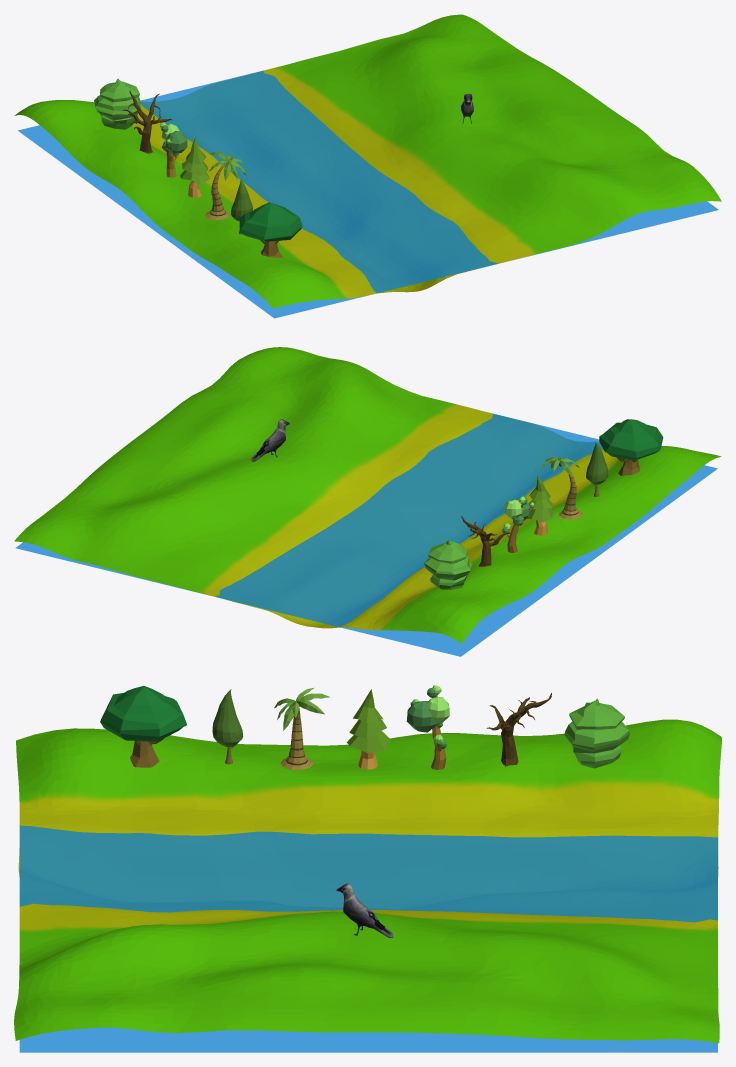
Rendered from World_test.glb.
3 renders of one model, top to bottom at view 1: azimuth 30°, elevation 25°; view 2: azimuth 150°, elevation 25°; view 3: azimuth 270°, elevation 25°, orthographic. The views are drawn at different scales.
Parts seen in each view (by area): view 1: Grid, Plane, Circle.005, Circle.007, Circle.001, Circle.002, Circle, Circle.006, Circle.004; view 2: Grid, Plane, Circle.005, Circle.007, Circle.001, Circle, Circle.002, Circle.006, Circle.004, Bird_2; view 3: Grid, Plane, Circle.005, Circle.007, Circle.001, Circle, Circle.002, Circle.006, Circle.004, Bird_2.
Part boxes in pixels (x1=…): Grid: x1=14, y1=14, x2=721, y2=308; Plane: x1=18, y1=70, x2=718, y2=318; Circle.005: x1=239, y1=202, x2=302, y2=257; Circle.007: x1=94, y1=78, x2=140, y2=129; Circle.001: x1=180, y1=136, x2=210, y2=197; Circle.002: x1=205, y1=152, x2=246, y2=220; Circle: x1=160, y1=122, x2=187, y2=177; Circle.006: x1=122, y1=90, x2=172, y2=153; Circle.004: x1=231, y1=179, x2=252, y2=221; Grid: x1=14, y1=347, x2=721, y2=643; Plane: x1=15, y1=413, x2=717, y2=656; Circle.005: x1=599, y1=419, x2=663, y2=475; Circle.007: x1=424, y1=539, x2=472, y2=589; Circle.001: x1=526, y1=475, x2=553, y2=535; Circle: x1=502, y1=496, x2=534, y2=552; Circle.002: x1=539, y1=457, x2=582, y2=519; Circle.006: x1=461, y1=516, x2=511, y2=566; Circle.004: x1=586, y1=442, x2=608, y2=484; Bird_2: x1=251, y1=419, x2=289, y2=461; Grid: x1=14, y1=719, x2=721, y2=1043; Plane: x1=19, y1=825, x2=717, y2=1052; Circle.005: x1=100, y1=686, x2=186, y2=767; Circle.007: x1=564, y1=698, x2=629, y2=768; Circle.001: x1=347, y1=689, x2=390, y2=769; Circle: x1=406, y1=685, x2=449, y2=769; Circle.002: x1=274, y1=687, x2=330, y2=769; Circle.006: x1=486, y1=693, x2=551, y2=766; Circle.004: x1=212, y1=689, x2=243, y2=746; Bird_2: x1=336, y1=883, x2=393, y2=937.
Size of the model in its own units: 51.19 by 11.99 by 50.71.
Materials: 18 (2 with a texture image).
